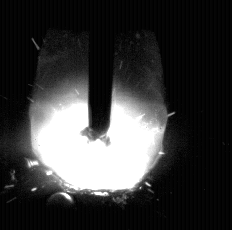arame: (89, 0, 112, 140)
poca: (30, 0, 163, 230)
